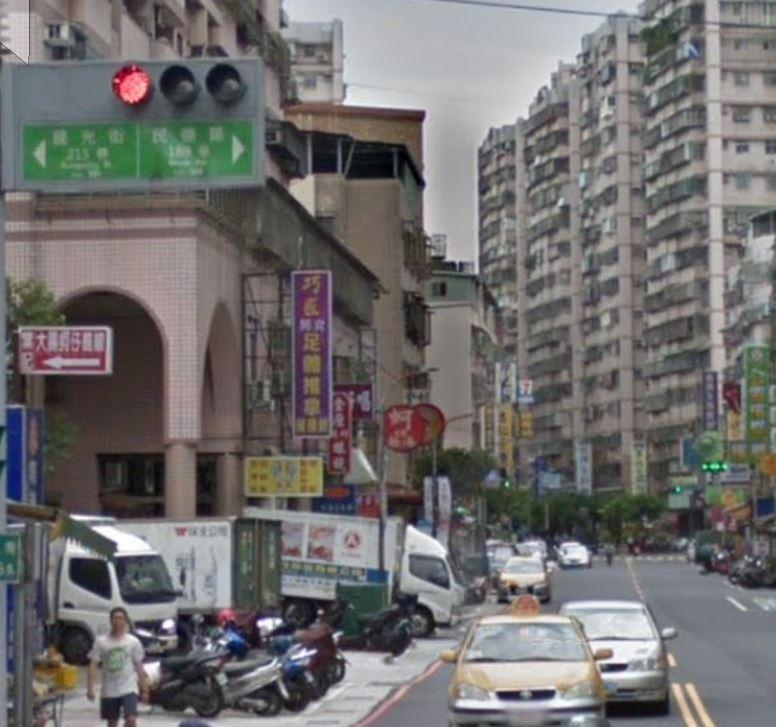red_traffic_light: (109, 57, 246, 112)
